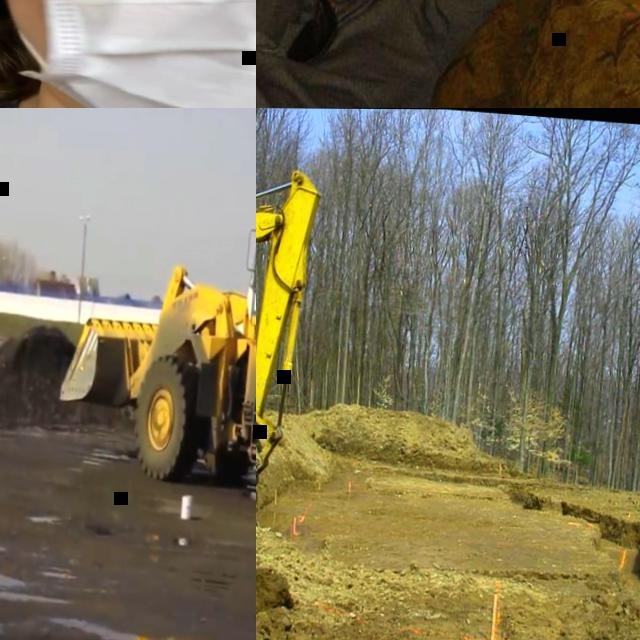Mask: (0, 0, 256, 108)
NO-Safety Vest: (256, 0, 444, 108)
Person: (256, 0, 571, 108), (0, 0, 256, 108)
machinery: (51, 188, 256, 526), (256, 156, 321, 534)
